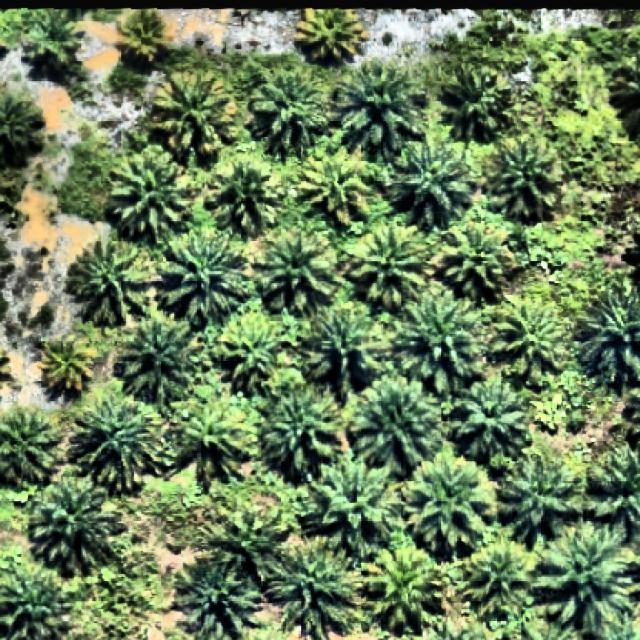Kelapa_Sawit: (532, 522, 634, 636), (158, 223, 255, 331), (402, 452, 498, 560), (68, 390, 164, 496), (105, 140, 198, 248), (29, 474, 126, 576), (347, 375, 442, 473), (62, 234, 158, 328), (391, 292, 478, 394), (332, 60, 426, 154), (387, 134, 475, 234), (258, 378, 340, 482), (149, 69, 240, 160), (309, 460, 391, 560), (361, 542, 444, 640), (498, 448, 580, 547), (169, 394, 251, 490), (488, 133, 566, 229), (202, 150, 282, 242), (116, 320, 198, 406), (297, 142, 377, 228), (256, 230, 336, 316), (348, 226, 428, 312), (252, 68, 330, 154), (449, 376, 526, 462), (211, 504, 291, 584), (440, 60, 514, 145), (490, 295, 564, 380), (458, 535, 532, 620), (437, 219, 515, 299), (308, 310, 383, 388), (218, 324, 280, 396), (19, 8, 87, 70), (36, 334, 96, 396), (117, 8, 177, 63)
